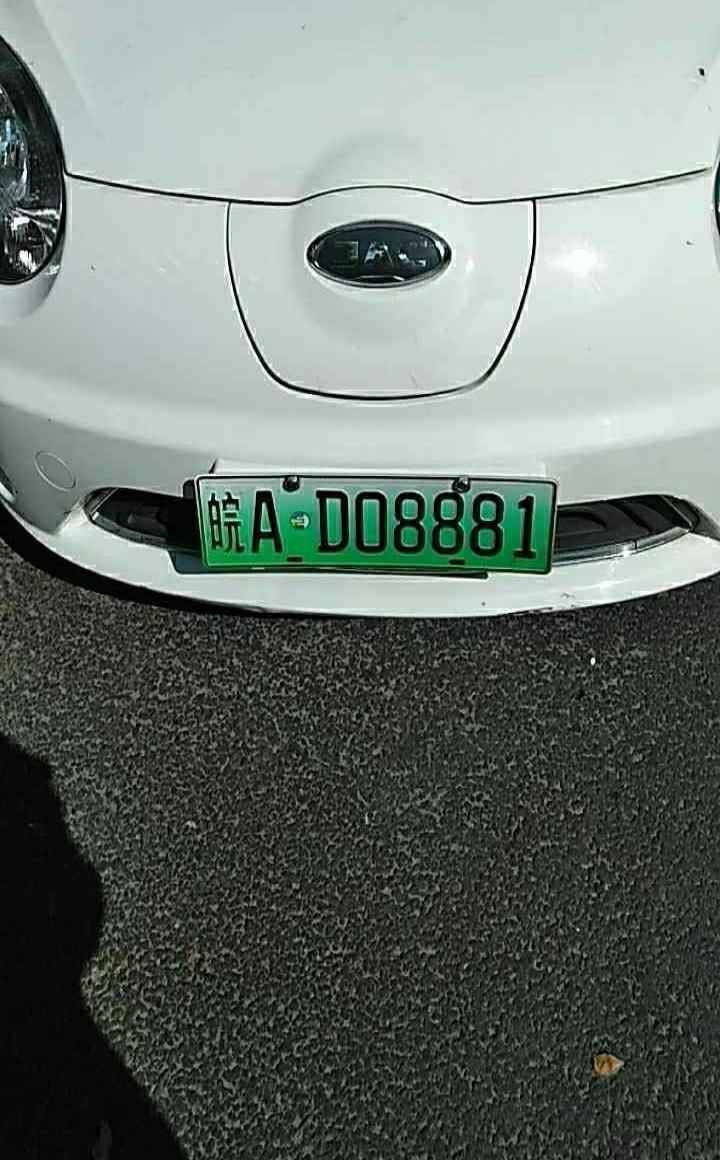car_id: (195, 477, 555, 580)
